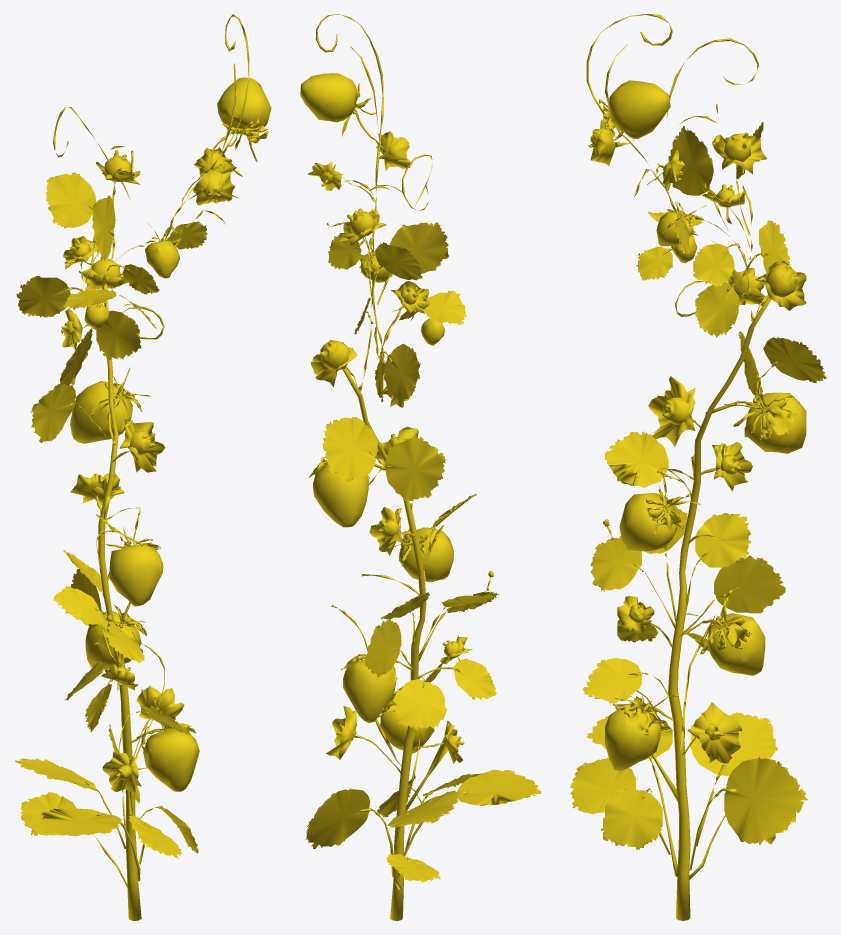
The model's file is caomei.FBX.
3 views of the same model, side by side, from view 1: azimuth 30°, elevation 25°; view 2: azimuth 150°, elevation 25°; view 3: azimuth 270°, elevation 25° (orthographic). The views are drawn at different scales.
Parts seen in each view (by area): view 1: Cylinder006; view 2: Cylinder006; view 3: Cylinder006.
Boxes of the visible parts, bbox=[...] form: Cylinder006: bbox=[15, 14, 271, 920]; Cylinder006: bbox=[300, 14, 541, 920]; Cylinder006: bbox=[570, 14, 826, 920].
Bounding box in the file's own units: 13.63 × 50.32 × 12.34.
